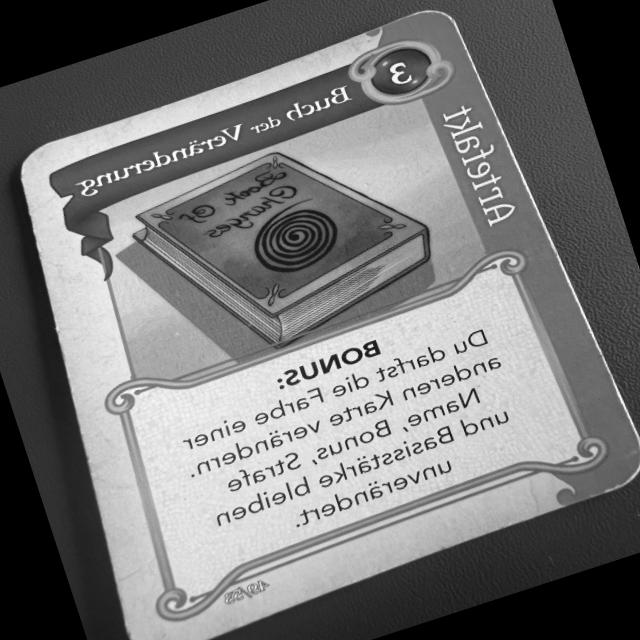Book Of Changes: (8, 0, 640, 640)
